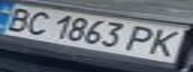1: (45, 12, 75, 41)
3: (103, 19, 130, 51)
6: (81, 17, 106, 47)
8: (66, 15, 90, 43)
B: (0, 4, 39, 32)
C: (15, 9, 54, 36)
K: (145, 27, 190, 58)
P: (124, 24, 163, 54)
